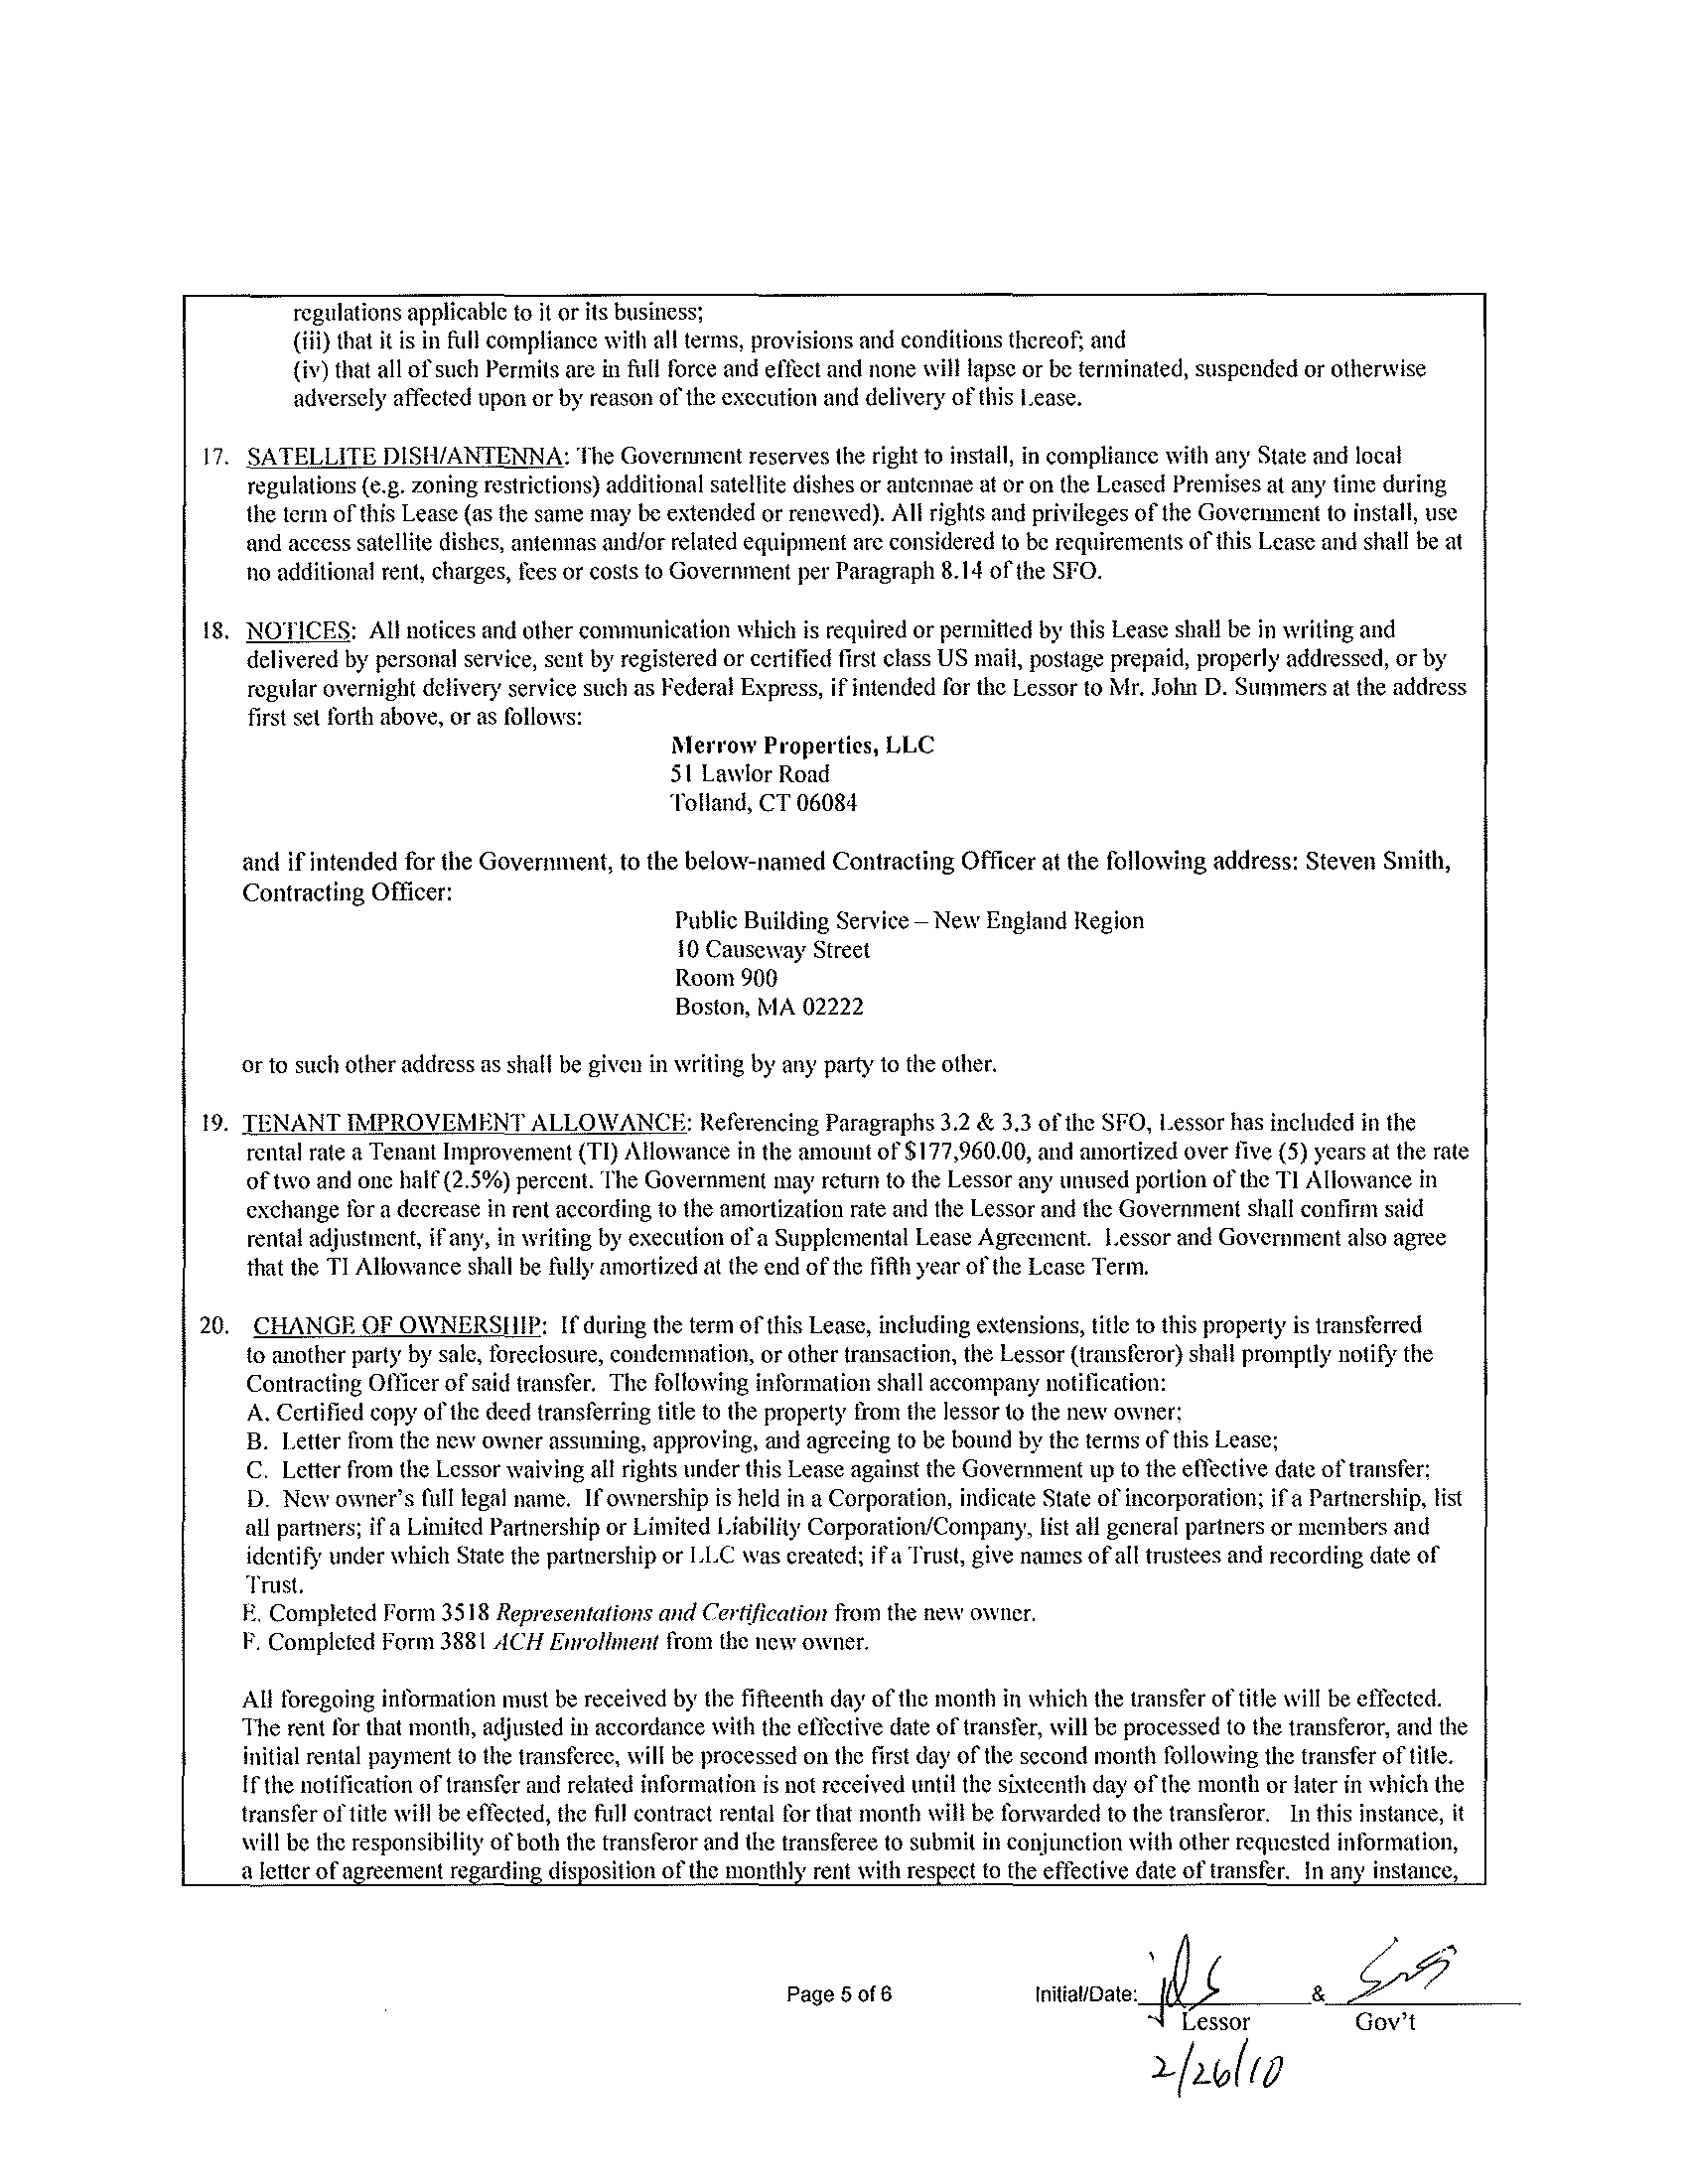handwritten: (1154, 1913, 1473, 2007), (1144, 2040, 1301, 2094)
